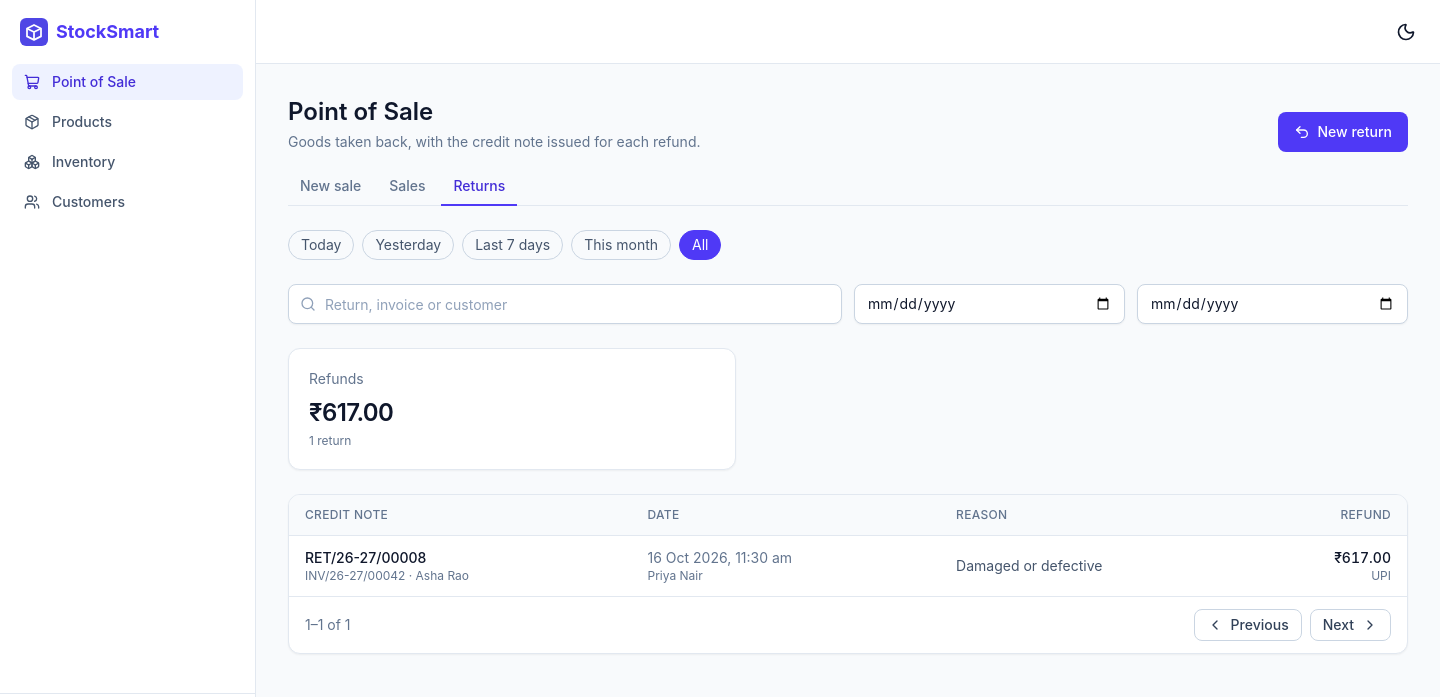
Returns › lists credit notes and finds the bill to start a new return
This screenshot has width=1440, height=697.
Expected: the row that starts with "RET/26-27/00008" is shown, [305,549,426,566]
Expected: the row that starts with "RET/26-27/00008" shows "INV/26-27/00042 · Asha Rao", [289,536,1407,596]
Click the button "New return": {"x": 1343, "y": 132} [1278,112,1408,152]
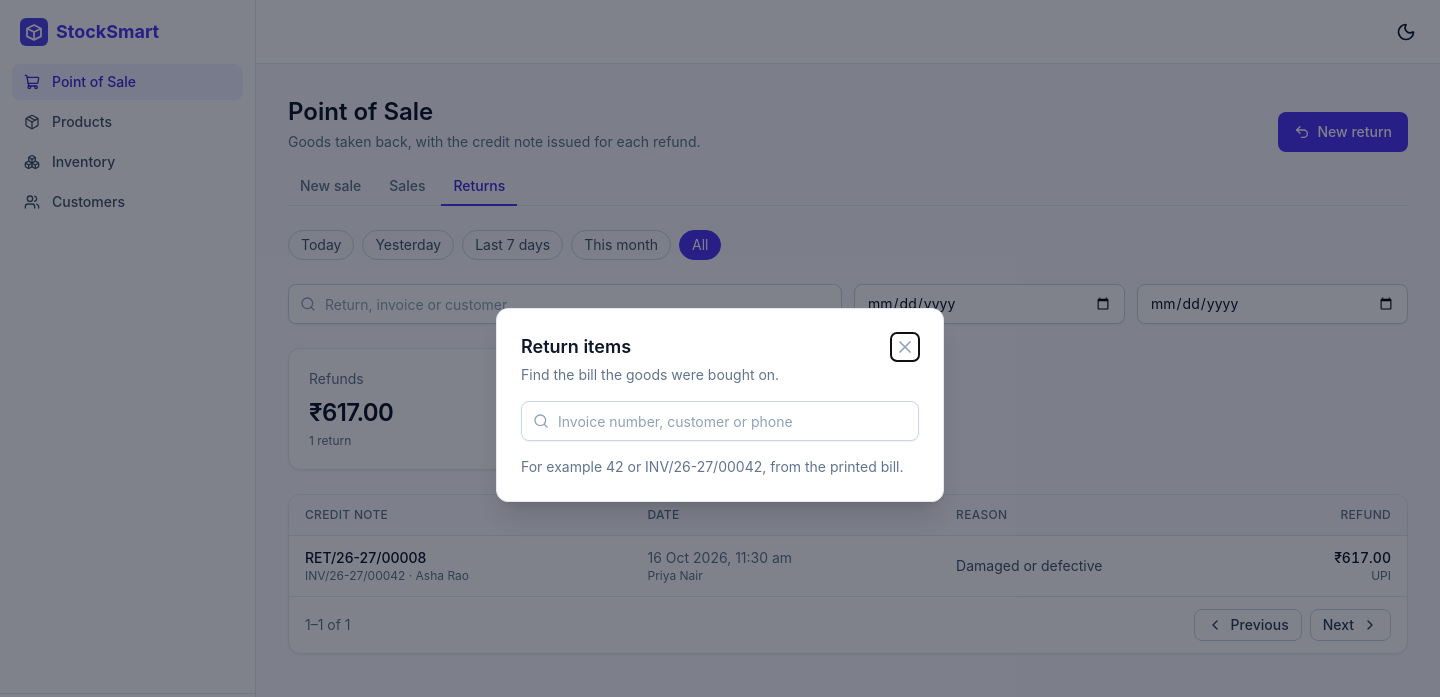
In the search field named "Find the bill": {"x": 720, "y": 421} [521,401,919,441], type "42"
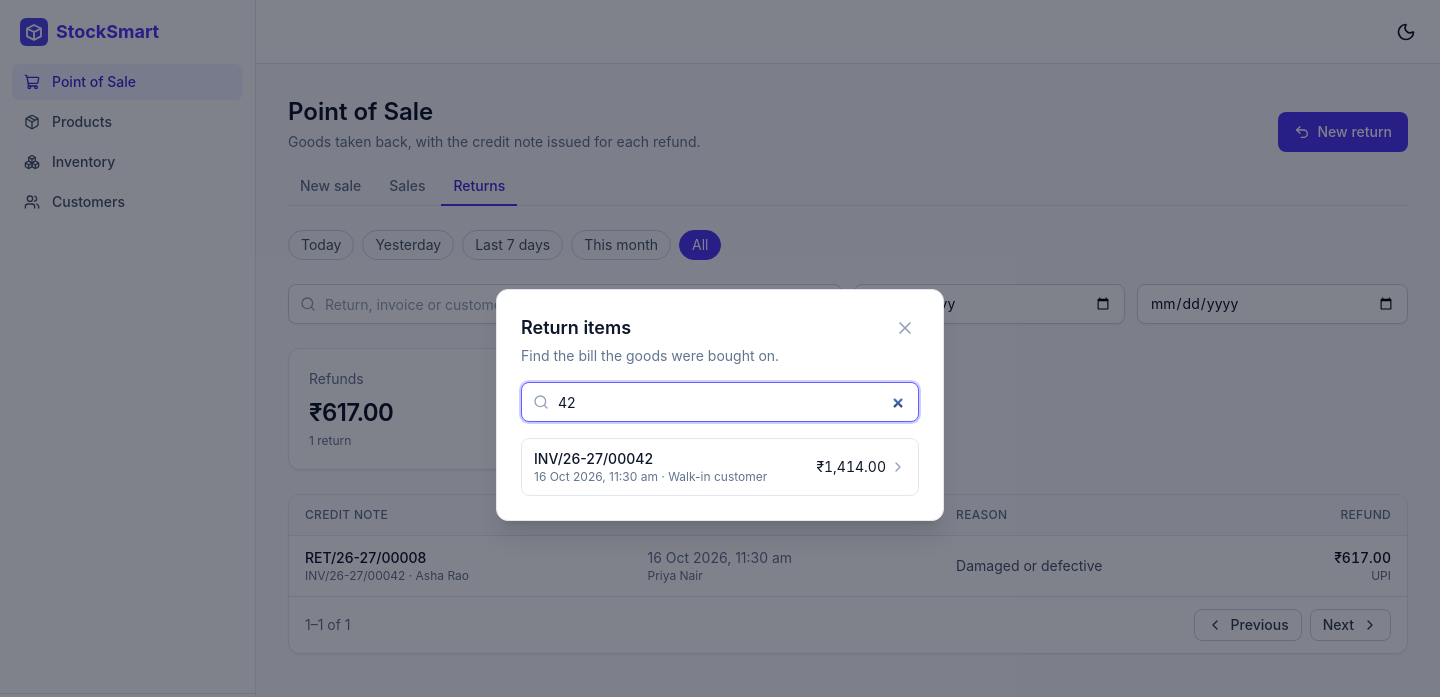
Click the link "INV/26-27/00042": {"x": 720, "y": 467} [522,439,918,495]
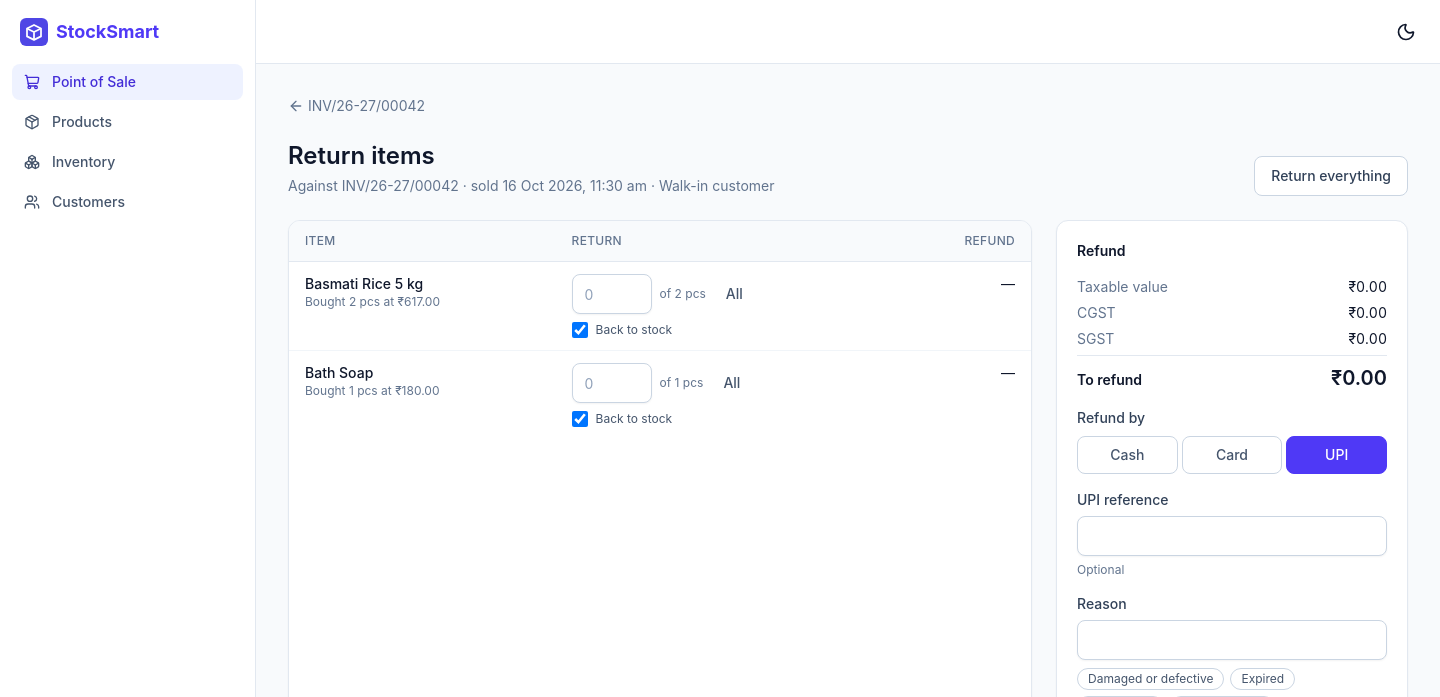
Result: the heading "Return items" is shown at [288,141,435,170]
